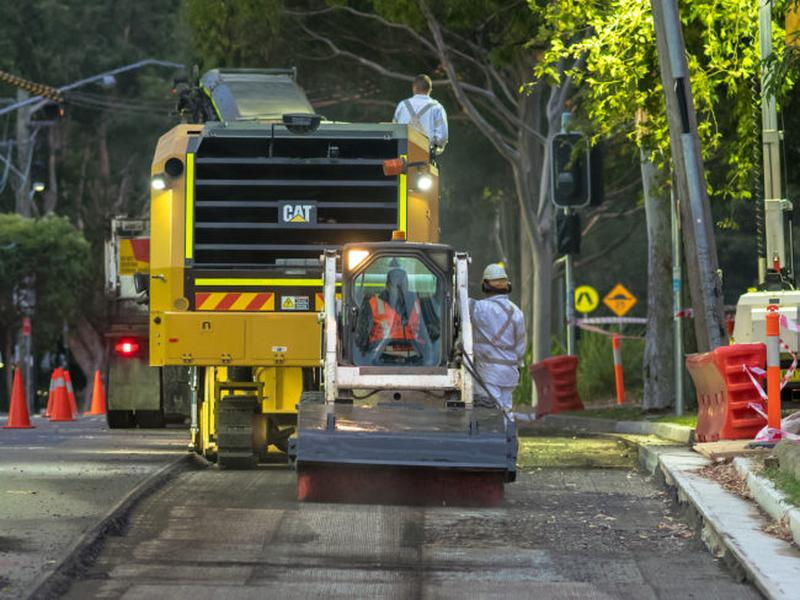Cone: (1, 366, 35, 429), (84, 370, 109, 416)
